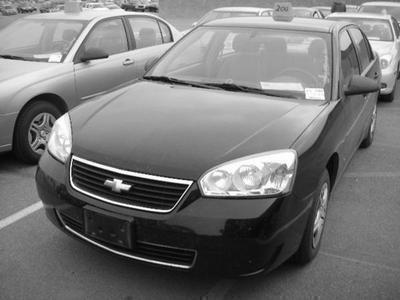car: (37, 3, 383, 283)
